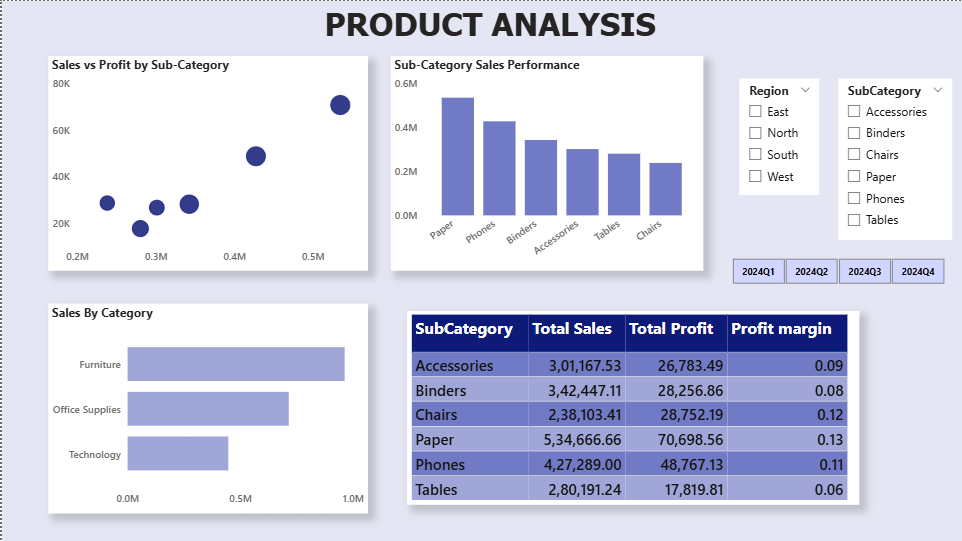

What the dashboard file says about the page in this screenshot:
{"tool":"powerbi","page":{"name":"Product Analysis","canvas":[1280,720],"ordinal":2},"visuals":[{"type":"clusteredBarChart","title":"Sales By Category","fields":{"Category":["Products.Category"],"Y":["Orders.Total Sales"]},"box":[61.7,403.3,426.7,280],"z":0},{"type":"columnChart","title":"Sub-Category Sales Performance ","fields":{"Category":["Products.SubCategory"],"Y":["Orders.Total Sales"]},"box":[518.3,73.3,416.7,286.7],"z":1000},{"type":"scatterChart","title":"Sales vs Profit by Sub-Category ","fields":{"X":["Orders.Total Sales"],"Y":["Orders.Total Profit"],"Size":["Sum(Orders.Quantity)"],"Category":["Products.SubCategory"]},"box":[61.7,73.3,426.7,286.7],"z":2000},{"type":"tableEx","fields":{"Values":["Products.SubCategory","Orders.Total Sales","Orders.Total Profit","Orders.Profit margin"]},"box":[540,413.3,603.3,258.3],"z":3000},{"type":"slicer","fields":{"Values":["Customers.Region"]},"box":[983.3,103.3,106.7,155],"z":4000},{"type":"slicer","fields":{"Values":["Calendar.Quarter"]},"box":[948.3,336.7,331.7,46.7],"z":5000},{"type":"slicer","fields":{"Values":["Products.SubCategory"]},"box":[1115,103.3,151.7,215],"z":6000},{"type":"textbox","box":[425,0,523.3,81.7],"z":7000}]}

Visuals, with their boxes in screenshot pixels (x1, y1, x2, y2), scaled from the page's 1280x720 canvas onto the 962x541 screenshot:
"Sales By Category" clusteredBarChart: {"left": 46, "top": 303, "right": 367, "bottom": 513}
"Sub-Category Sales Performance " columnChart: {"left": 390, "top": 55, "right": 703, "bottom": 270}
"Sales vs Profit by Sub-Category " scatterChart: {"left": 46, "top": 55, "right": 367, "bottom": 270}
tableEx - Products.SubCategory x Orders.Total Sales: {"left": 406, "top": 311, "right": 859, "bottom": 505}
slicer - Customers.Region: {"left": 739, "top": 78, "right": 819, "bottom": 194}
slicer - Calendar.Quarter: {"left": 713, "top": 253, "right": 961, "bottom": 288}
slicer - Products.SubCategory: {"left": 838, "top": 78, "right": 952, "bottom": 239}
textbox: {"left": 319, "top": 0, "right": 713, "bottom": 61}
